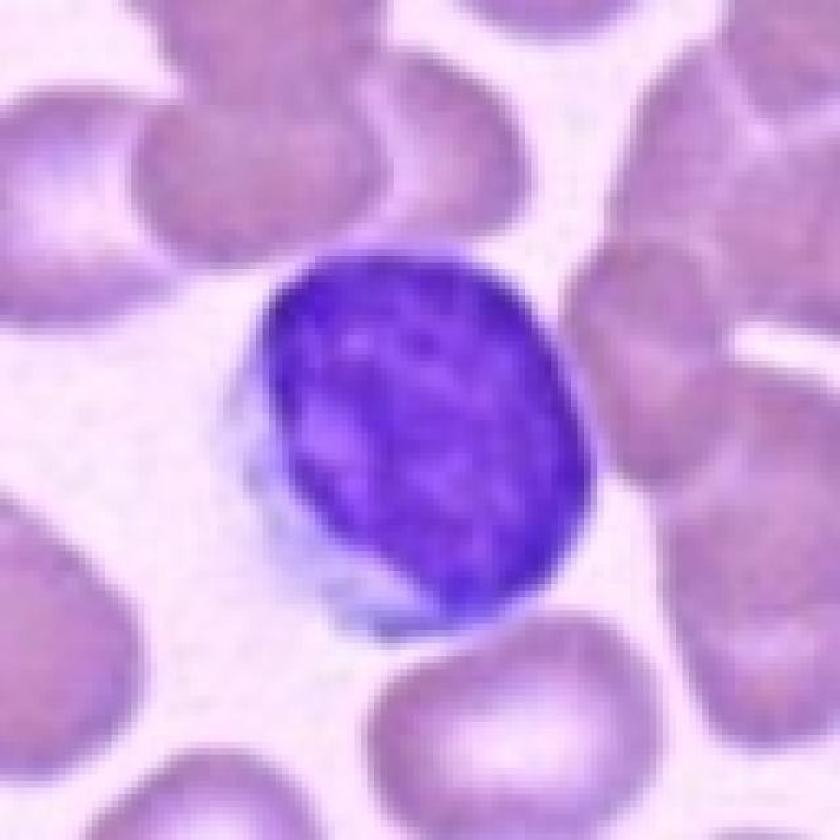lymphocyte: (212, 242, 606, 646)
